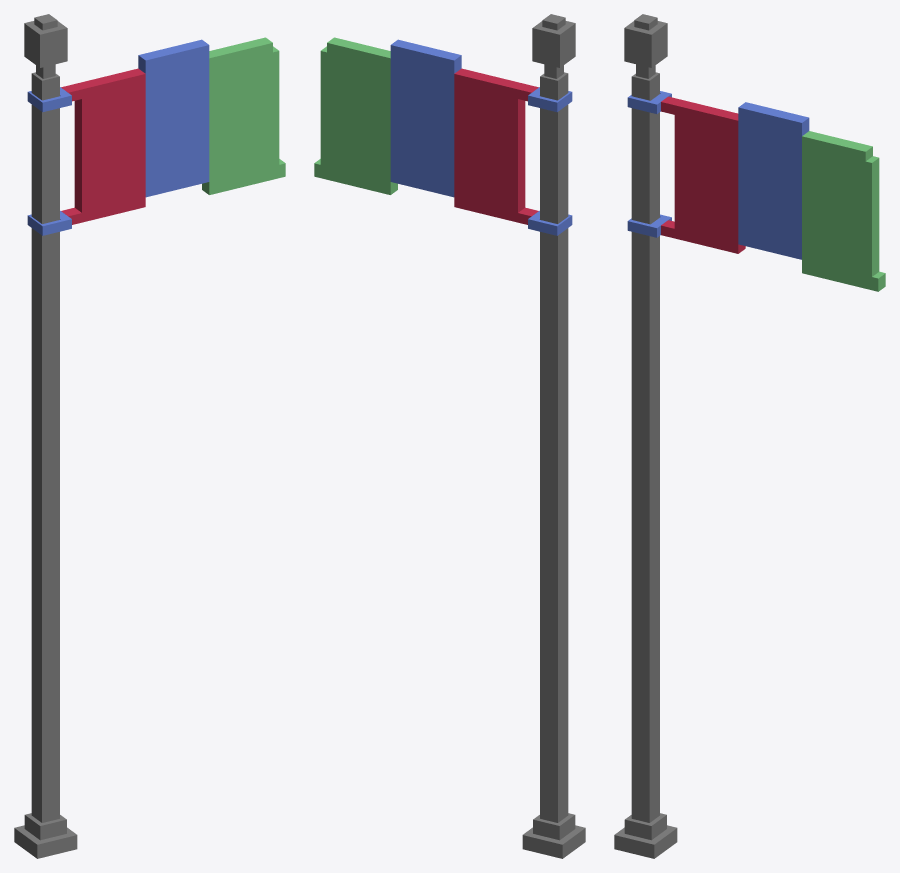
File: flag.fbx
3 views of the same model, side by side, from view 1: azimuth 30°, elevation 25°; view 2: azimuth 150°, elevation 25°; view 3: azimuth 330°, elevation 25° (orthographic).
Parts seen in each view (by area): view 1: flag_metal, flag_flag2, flag_flag4, flag_flag3, flag_flag1; view 2: flag_metal, flag_flag2, flag_flag4, flag_flag3, flag_flag1; view 3: flag_metal, flag_flag4, flag_flag2, flag_flag3, flag_flag1.
Part boxes in pixels (x1,y1,x2,y2): flag_metal: (14, 14, 77, 858); flag_flag2: (61, 68, 145, 224); flag_flag4: (202, 37, 285, 194); flag_flag3: (138, 39, 209, 197); flag_flag1: (27, 87, 71, 235); flag_metal: (522, 14, 585, 858); flag_flag2: (454, 68, 538, 224); flag_flag4: (314, 37, 397, 194); flag_flag3: (390, 39, 461, 197); flag_flag1: (528, 87, 572, 235); flag_metal: (614, 14, 677, 858); flag_flag4: (802, 131, 885, 291); flag_flag2: (661, 96, 745, 253); flag_flag3: (738, 102, 809, 259); flag_flag1: (627, 91, 671, 237).
Bounding box in the file's own units: 201 × 620 × 31.5.
